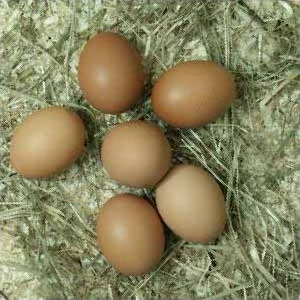egg: (151, 60, 236, 129), (154, 163, 227, 243), (96, 193, 166, 275), (77, 31, 145, 115), (9, 105, 85, 180), (100, 121, 173, 187)
